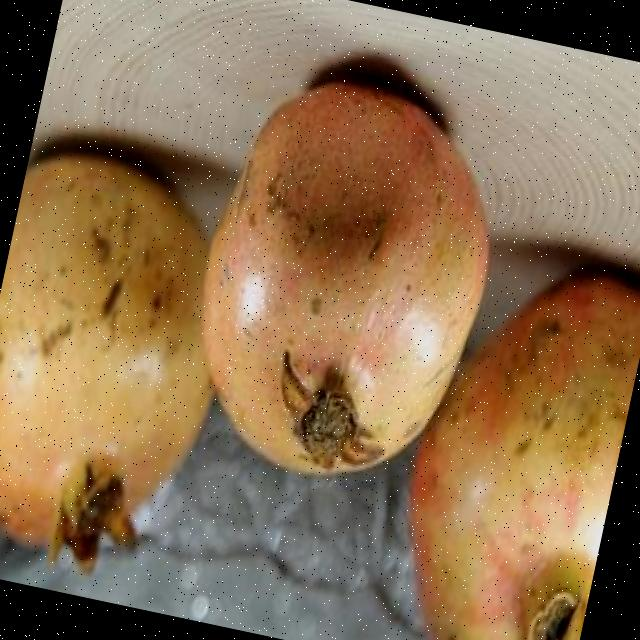overripe: (167, 51, 523, 500), (0, 137, 251, 582), (370, 234, 640, 640)
